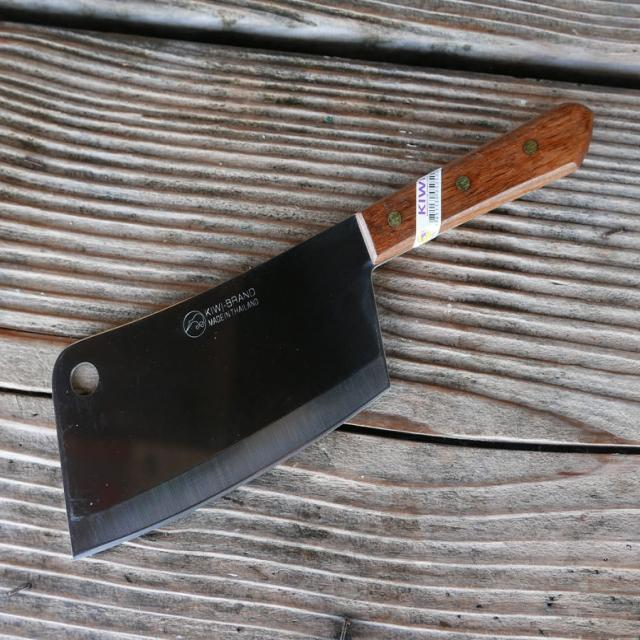cleaver: (51, 104, 594, 558)
